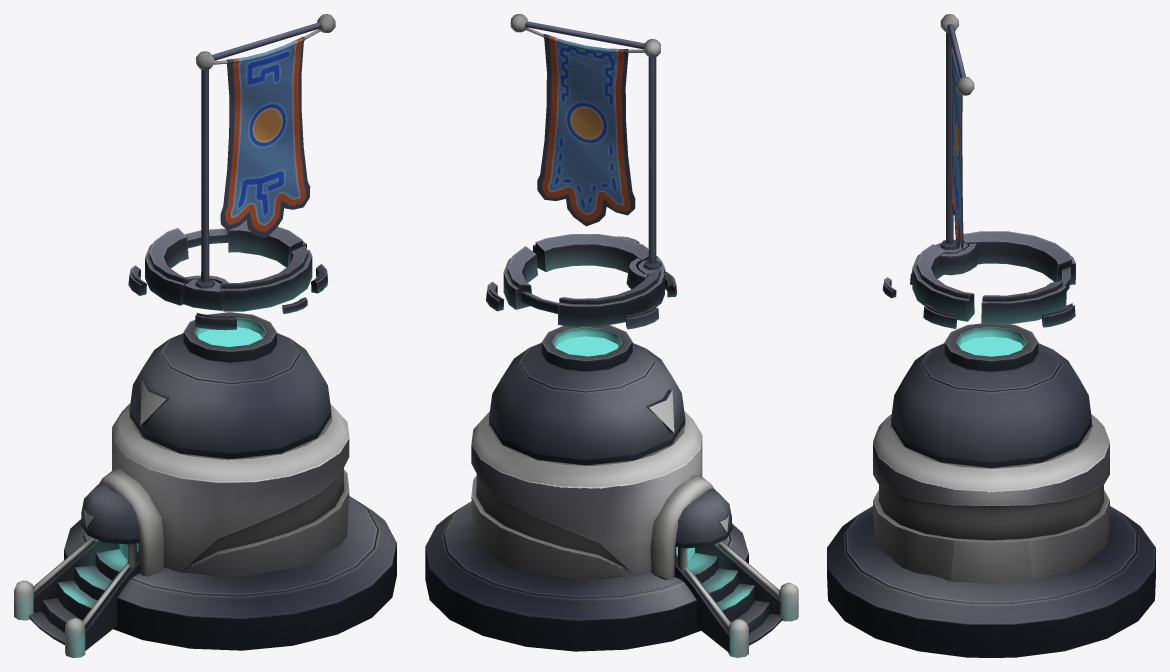
Rendered from Building_00_00_001.fbx.
The picture shows the model from 3 angles, left to right: view 1: azimuth 30°, elevation 25°; view 2: azimuth 150°, elevation 25°; view 3: azimuth 270°, elevation 25°; orthographic projection. The views are drawn at different scales.
Parts seen in each view (by area): view 1: Building_00_00_001, Flag; view 2: Building_00_00_001, Flag; view 3: Building_00_00_001, Flag.
Part boxes in pixels (<box>): Building_00_00_001: <box>14,220,396,657</box>; Flag: <box>195,14,335,288</box>; Building_00_00_001: <box>425,234,798,657</box>; Flag: <box>510,14,661,270</box>; Building_00_00_001: <box>827,231,1155,657</box>; Flag: <box>940,14,974,249</box>.
Size of the model in its own units: 16.65 by 26.92 by 14.29.
